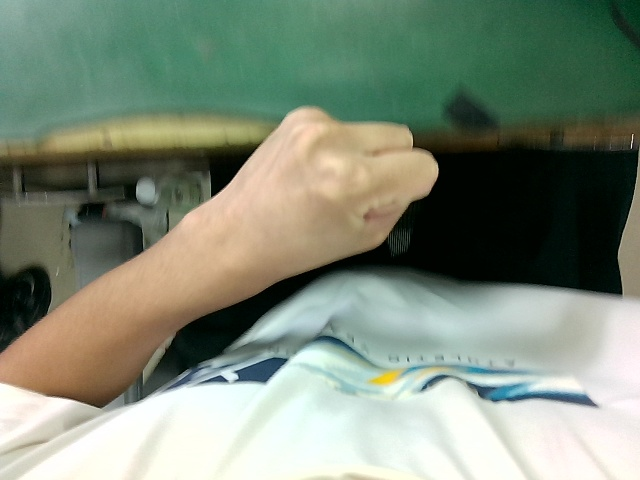stone: (200, 99, 441, 287)
